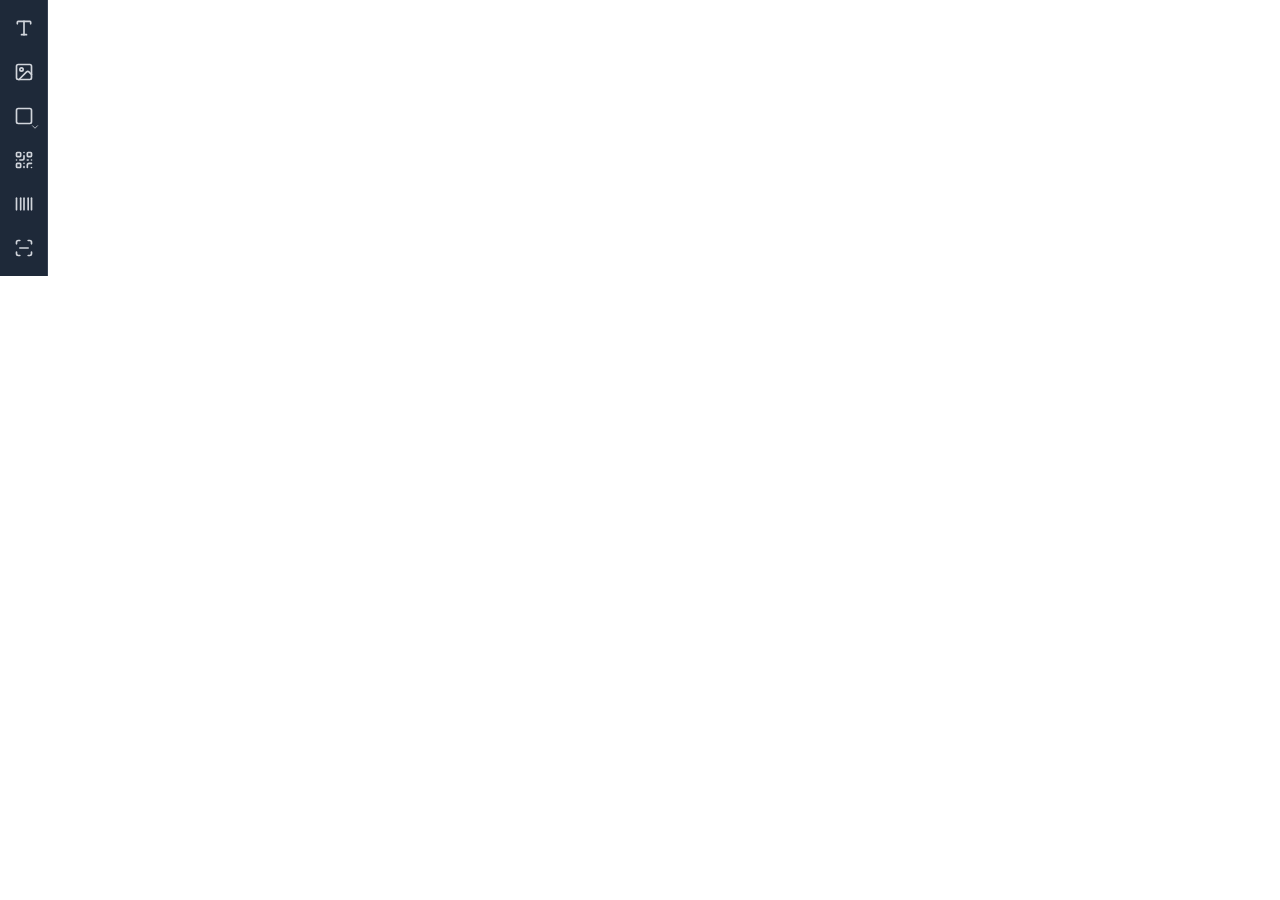
Test: InsertRail › opens the image import dialog instead of arming
The width and height of the screenshot is (1280, 900).
Click the button named "Image" at (24, 72), box [4,52,44,92]
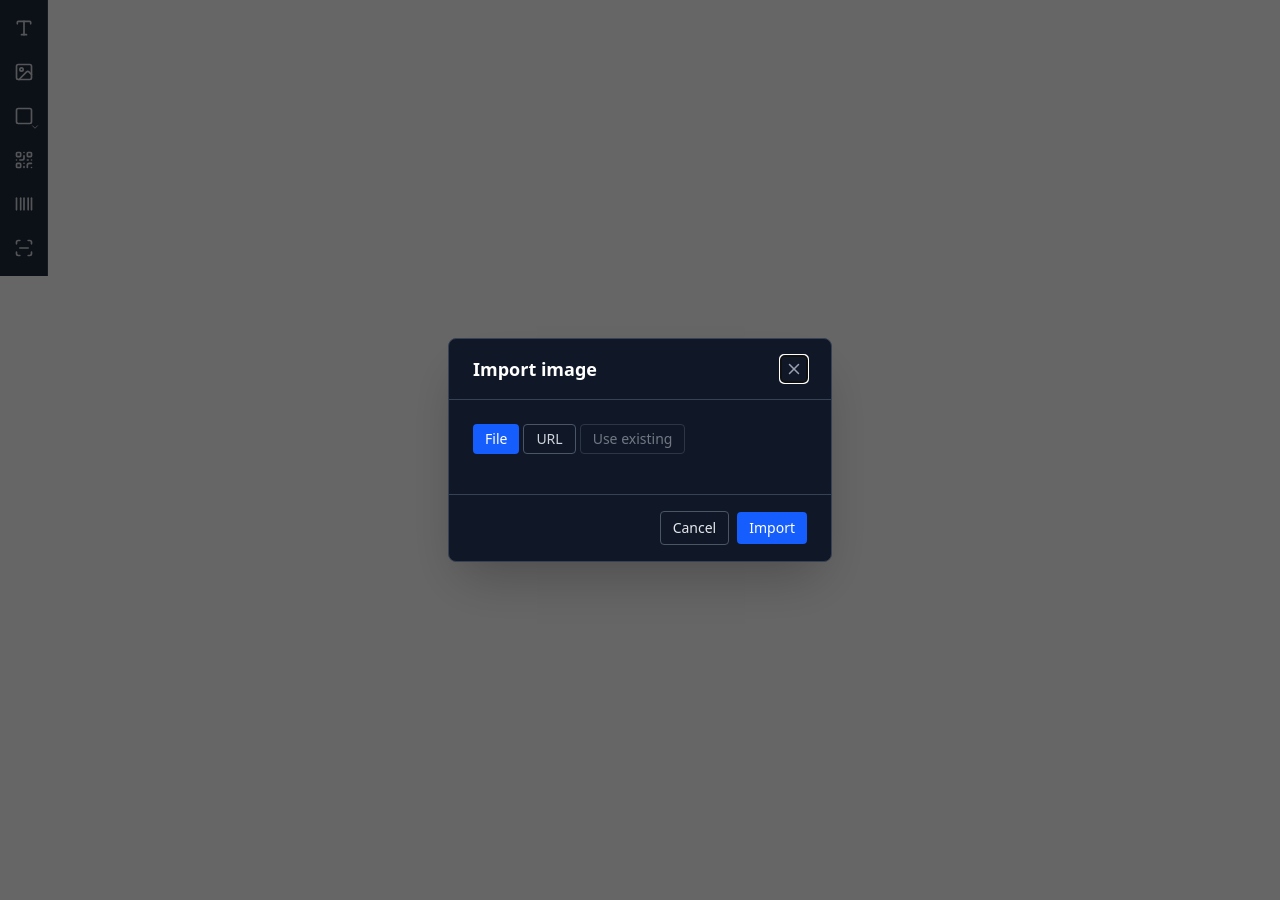
Now the heading "Import image" is shown, box [473,355,597,383]
